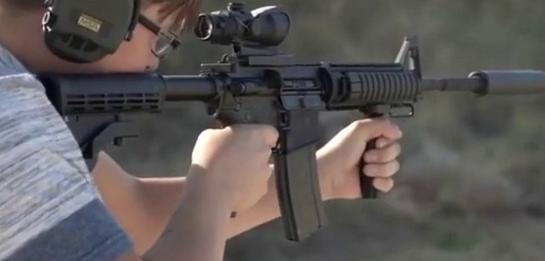gun: (1, 1, 545, 261)
